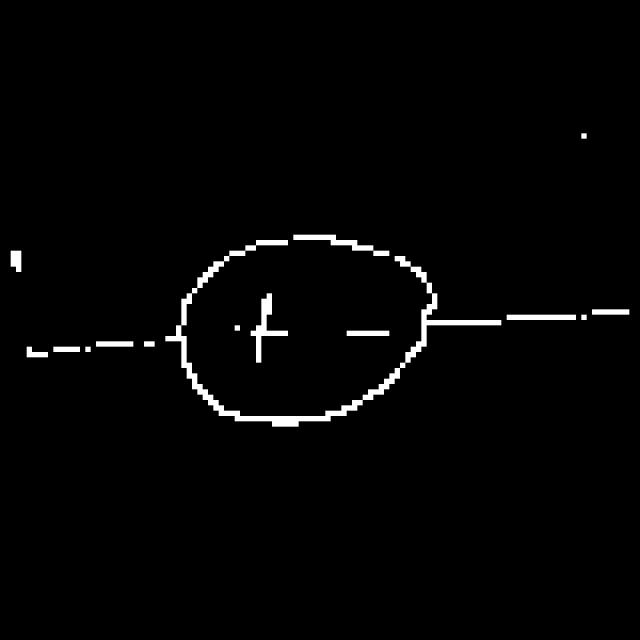voltage_source: (169, 214, 437, 432)
